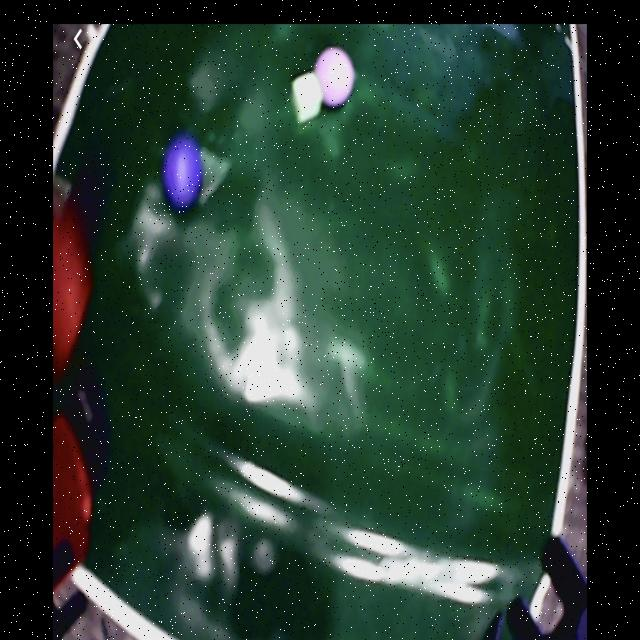ball: (165, 137, 204, 210), (316, 48, 355, 108)
